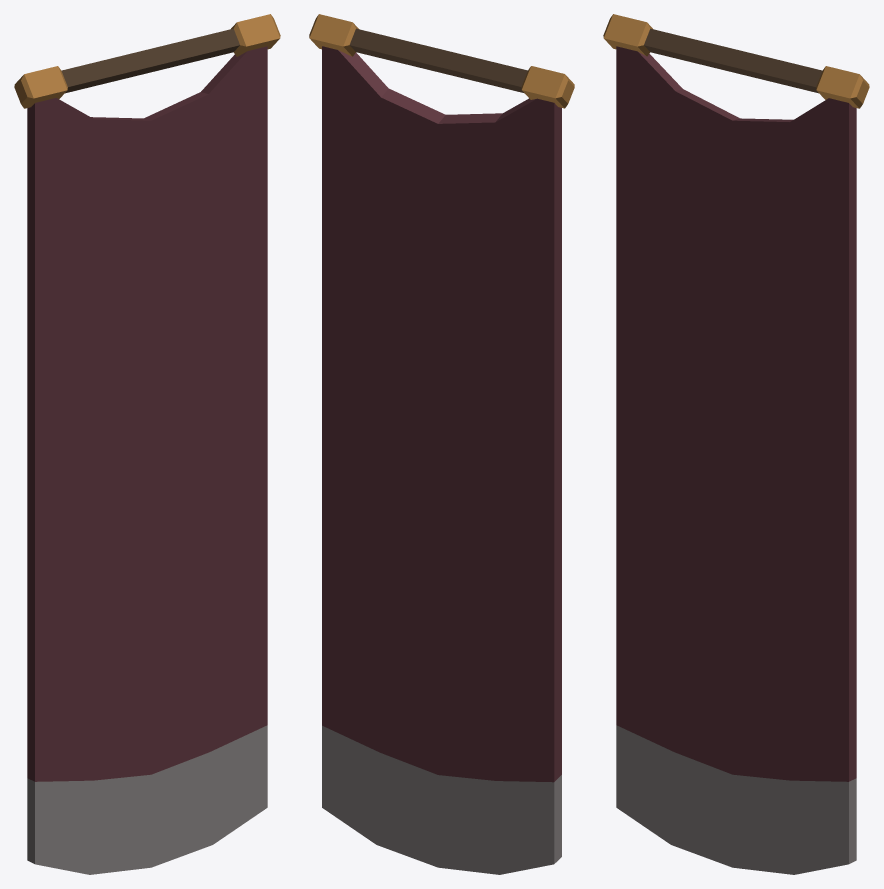
The model's file is SM_Banner_Long_Stick_Empire.fbx.
3 views of the same model, side by side, from view 1: azimuth 30°, elevation 25°; view 2: azimuth 150°, elevation 25°; view 3: azimuth 330°, elevation 25° (orthographic).
Parts seen in each view (by area): view 1: SM_Banner_Long_Stick_Empire; view 2: SM_Banner_Long_Stick_Empire; view 3: SM_Banner_Long_Stick_Empire.
Boxes of the visible parts, left/top/right/bottom form: SM_Banner_Long_Stick_Empire: left=14, top=14, right=280, bottom=874; SM_Banner_Long_Stick_Empire: left=309, top=14, right=574, bottom=874; SM_Banner_Long_Stick_Empire: left=603, top=14, right=869, bottom=874.
Bounding box in the file's own units: 0.8856 × 2.75 × 0.1161.
